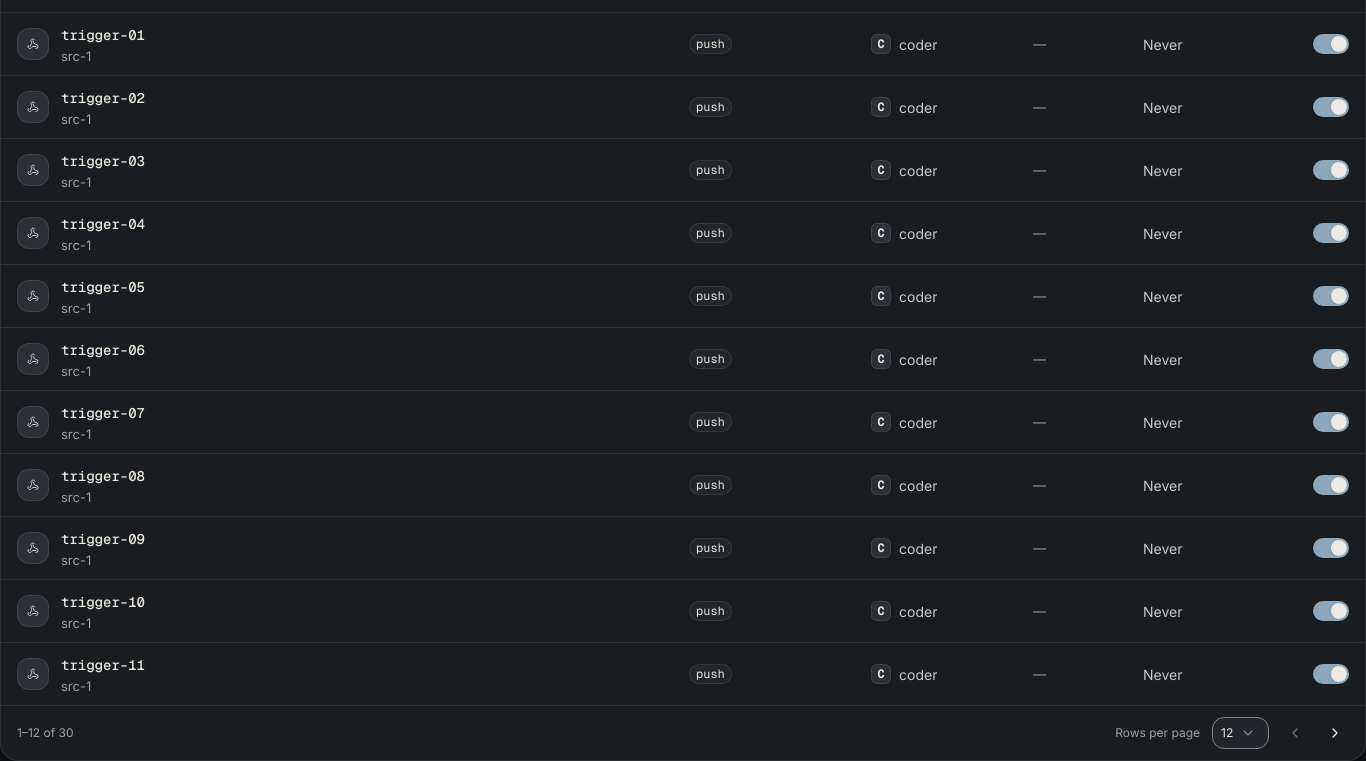
Scenario: pagination › repages when the page size changes
(page scrolled)
Select "25" in the dropdown named "triggers per page": (1240, 733) [1212,717,1269,749]
(page scrolled)
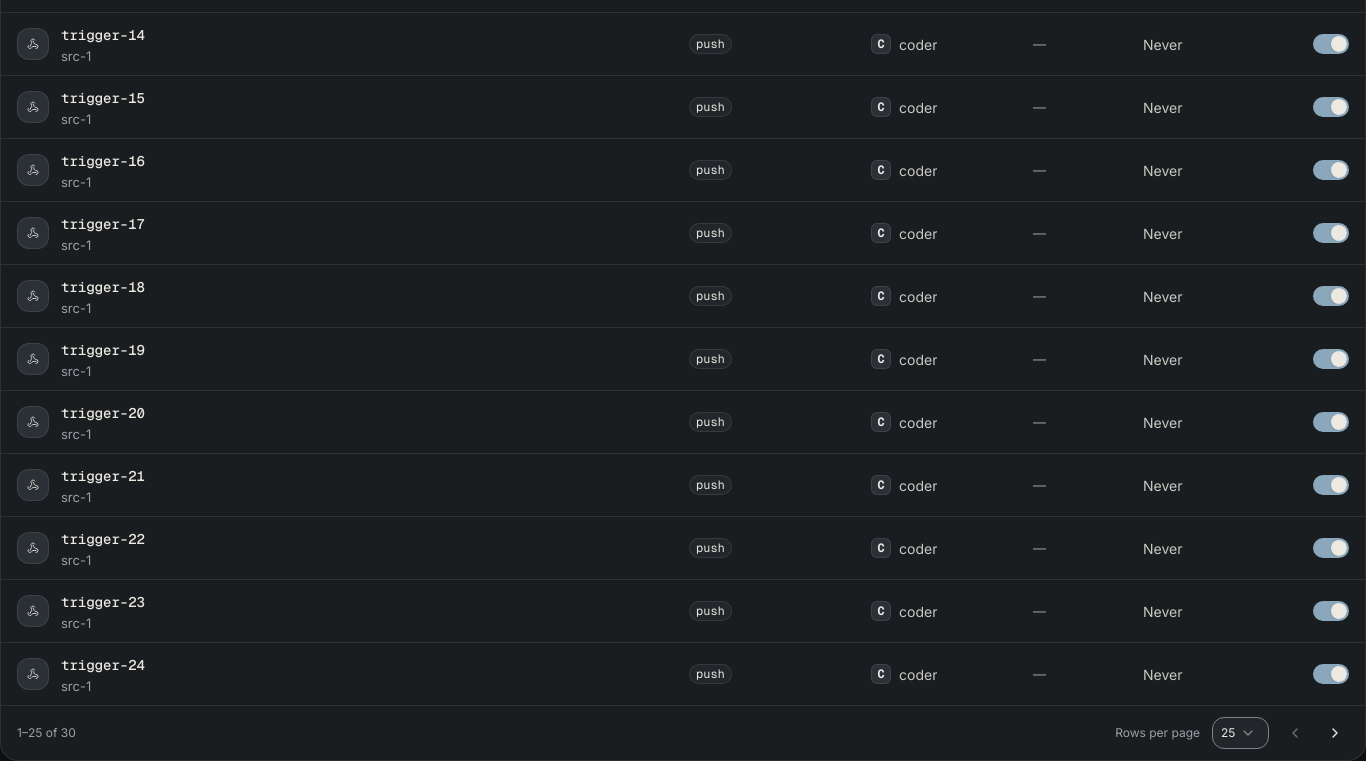
Check: the text "1–25 of 30" is shown, box [17,725,76,741]
